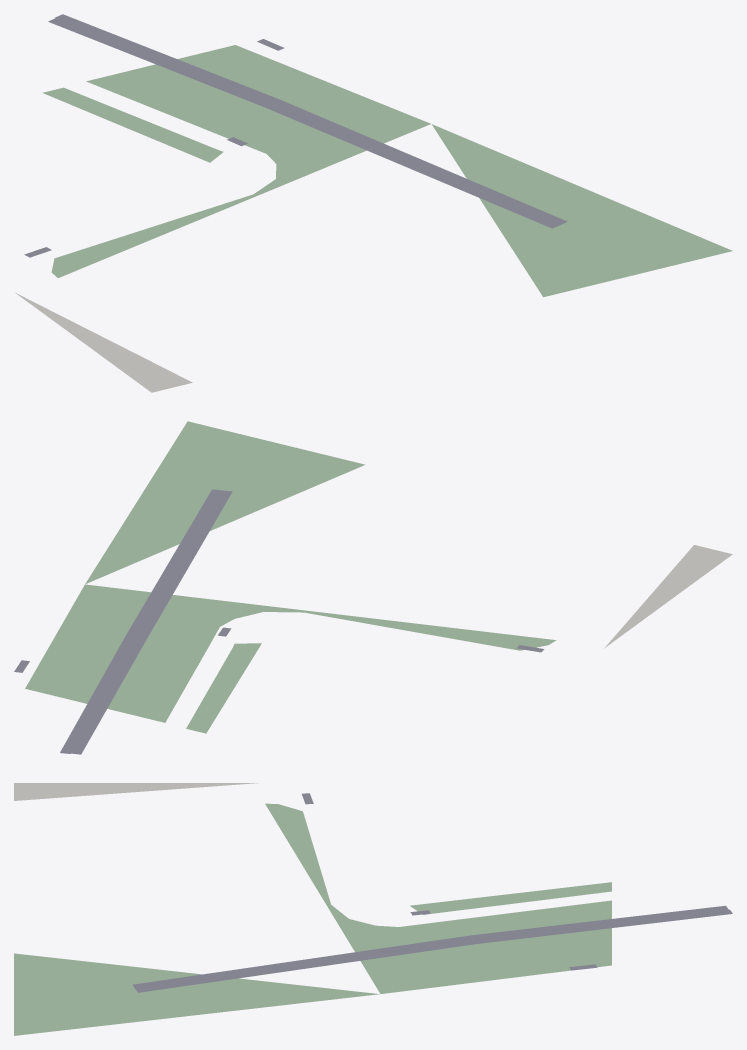
Rendered from 143_109_mid.glb.
The picture shows the model from 3 angles, top to bottom: view 1: azimuth 30°, elevation 25°; view 2: azimuth 150°, elevation 25°; view 3: azimuth 270°, elevation 25°; orthographic projection. The views are drawn at different scales.
Size of the model in its own units: 500 by 7.76 by 601.
